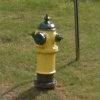Hydrant: (26, 6, 64, 91)
